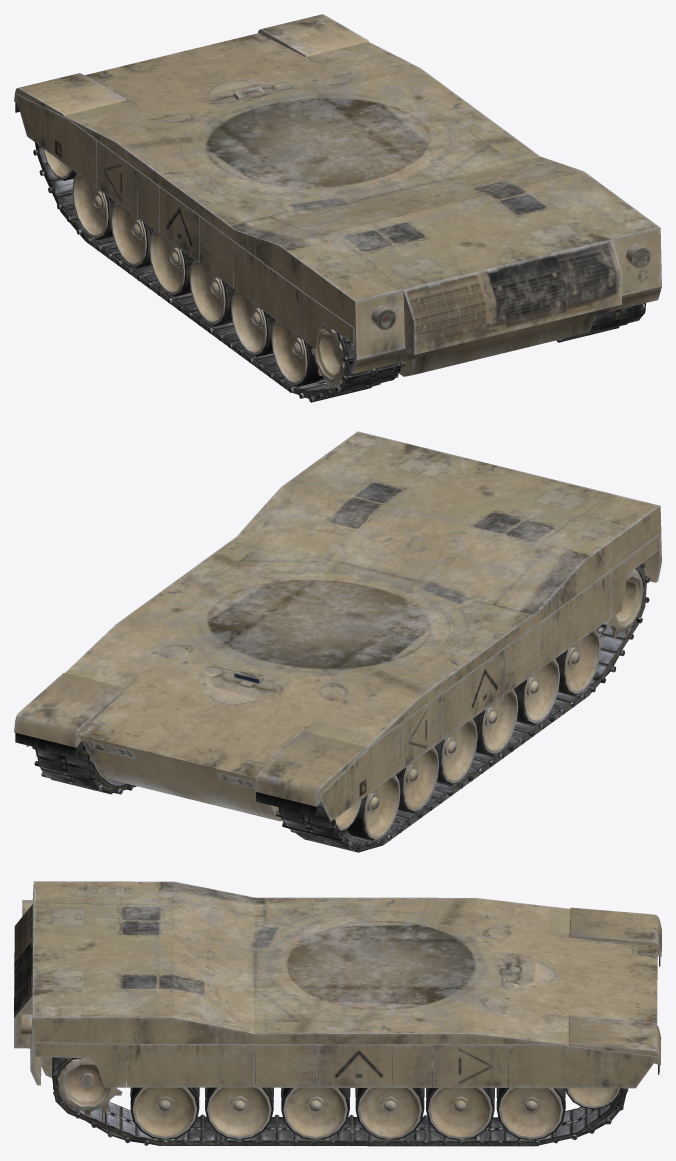
Rendered from Tank_Body.obj.
3 views of the same model, one above another, from view 1: azimuth 30°, elevation 25°; view 2: azimuth 150°, elevation 25°; view 3: azimuth 270°, elevation 25° (orthographic). The views are drawn at different scales.
Parts seen in each view (by area): view 1: Abrams_Hull, Abrams_HullArmor, Abrams_CaterpillarAnimL, Abrams_CaterpillarL, Abrams_Rollers7L, Abrams_Rollers5L, Abrams_Rollers4L, Abrams_Rollers6L, Abrams_Rollers2L, Abrams_Rollers3L, M1A2_MainRollerL, Abrams_CaterpillarR; view 2: Abrams_Hull, Abrams_HullArmor, Abrams_CaterpillarAnimL, Abrams_CaterpillarL, Abrams_Rollers2L, Abrams_Rollers6L, Abrams_Rollers5L, Abrams_Rollers7L, Abrams_Rollers4L, Abrams_Rollers3L, Abrams_CaterpillarAnimR, M1A2_MainRollerL; view 3: Abrams_Hull, Abrams_HullArmor, Abrams_CaterpillarAnimR, Abrams_CaterpillarR, Abrams_RollersR6, Abrams_RollersR7, Abrams_RollersR2, Abrams_RollersR4, Abrams_RollersR5, Abrams_RollersR3, M1A2_MainRollerR, Abrams_RollersR1.
Part boxes in pixels (x1,y1,x2,y2): Abrams_Hull: (14,14,661,376); Abrams_HullArmor: (14,93,354,348); Abrams_CaterpillarAnimL: (33,149,405,402); Abrams_CaterpillarL: (35,142,400,396); Abrams_Rollers7L: (271,319,324,386); Abrams_Rollers5L: (189,259,234,326); Abrams_Rollers4L: (149,229,193,296); Abrams_Rollers6L: (230,290,274,356); Abrams_Rollers2L: (72,173,114,240); Abrams_Rollers3L: (110,201,152,268); M1A2_MainRollerL: (311,324,399,388); Abrams_CaterpillarR: (584,303,645,333); Abrams_Hull: (14,431,661,821); Abrams_HullArmor: (26,533,660,821); Abrams_CaterpillarAnimL: (276,562,649,849); Abrams_CaterpillarL: (278,565,646,852); Abrams_Rollers2L: (341,774,400,840); Abrams_Rollers6L: (514,658,559,725); Abrams_Rollers5L: (473,689,518,755); Abrams_Rollers7L: (556,629,600,695); Abrams_Rollers4L: (435,718,477,785); Abrams_Rollers3L: (396,746,438,813); Abrams_CaterpillarAnimR: (32,746,132,794); M1A2_MainRollerL: (605,569,643,638); Abrams_Hull: (14,881,661,1085); Abrams_HullArmor: (34,1042,658,1088); Abrams_CaterpillarAnimR: (53,1048,628,1146); Abrams_CaterpillarR: (52,1050,627,1146); Abrams_RollersR6: (205,1064,273,1139); Abrams_RollersR7: (130,1087,199,1139); Abrams_RollersR2: (496,1067,565,1139); Abrams_RollersR4: (355,1063,424,1139); Abrams_RollersR5: (281,1061,350,1139); Abrams_RollersR3: (426,1070,494,1139); M1A2_MainRollerR: (52,1058,122,1116); Abrams_RollersR1: (565,1088,621,1109).
Size of the model in its own units: 4.02 by 1.77 by 8.01.
